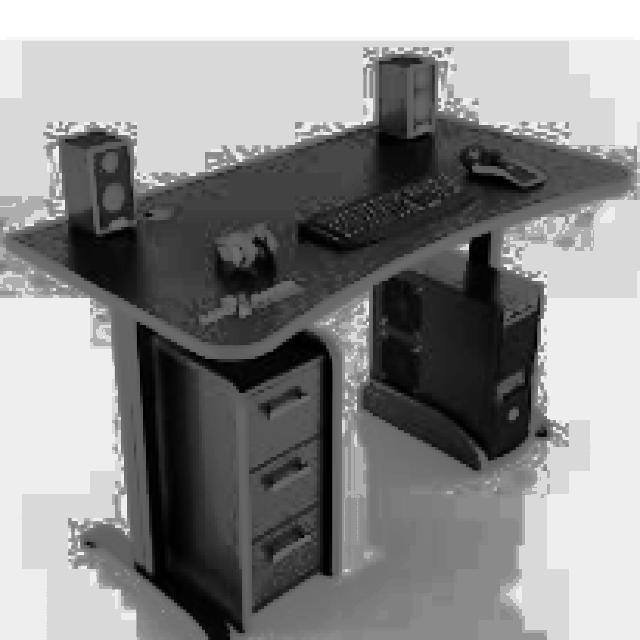table: (3, 105, 631, 637)
